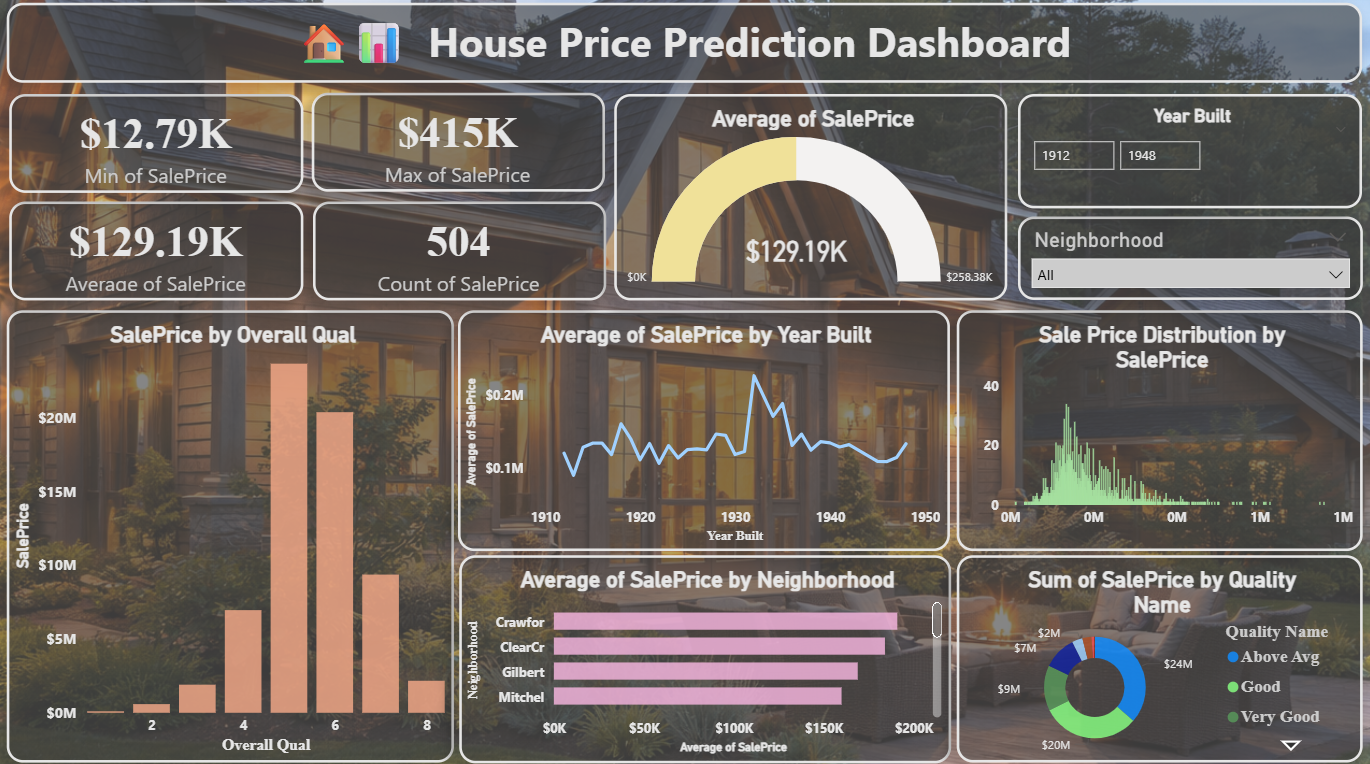

Layout of this report page (visuals, bound fields, positions):
{"tool":"powerbi","page":{"name":"Page 1","canvas":[1280,720],"ordinal":0},"visuals":[{"type":"clusteredColumnChart","fields":{"Category":["AmesHousing (2).SalePrice"],"Y":["CountNonNull(AmesHousing (2).SalePrice)"]},"box":[891.6,294.4,377.6,224.4],"z":0},{"type":"clusteredColumnChart","fields":{"Category":["AmesHousing.Overall Qual"],"Y":["Sum(AmesHousing.SalePrice)"]},"box":[8.4,294.4,416.2,421],"z":1000},{"type":"lineChart","fields":{"Category":["AmesHousing.Year Built"],"Y":["Avg(AmesHousing.SalePrice)"]},"box":[428.3,294.4,457.2,224.4],"z":2000},{"type":"card","fields":{"Values":["CountNonNull(AmesHousing.SalePrice)"]},"box":[293.2,193,272.7,91.7],"z":3000},{"type":"card","fields":{"Values":["Avg(AmesHousing.SalePrice)"]},"box":[10.9,193,273.9,91.7],"z":4000},{"type":"card","fields":{"Values":["Max(AmesHousing.SalePrice)"]},"box":[292,91.7,272.7,91.7],"z":5000},{"type":"card","fields":{"Values":["Min(AmesHousing.SalePrice)"]},"box":[10.9,92.9,273.9,91.7],"z":6000},{"type":"textbox","box":[8.4,8.4,1260.7,74.8],"z":7000},{"type":"slicer","fields":{"Values":["AmesHousing.Neighborhood"]},"box":[948.3,207.5,320.9,77.2],"z":8000},{"type":"clusteredBarChart","fields":{"Category":["AmesHousing.Neighborhood"],"Y":["Avg(AmesHousing.SalePrice)"]},"box":[429.2,522.1,457.3,193.2],"z":9000},{"type":"gauge","fields":{"Y":["Avg(AmesHousing.SalePrice)"]},"box":[573.1,92.9,365.6,191.8],"z":10000},{"type":"donutChart","fields":{"Y":["Sum(AmesHousing.SalePrice)"],"Category":["AmesHousing.Quality Name"]},"box":[891.6,522.4,377.6,193],"z":11000},{"type":"slicer","title":"Year Built","fields":{"Values":["AmesHousing.Year Built"]},"box":[948.8,92.5,320,106.2],"z":12000}]}

Visuals, with their boxes in screenshot pixels (x1, y1, x2, y2), scaled from the page's 1280x720 canvas onto the 1370x764 screenshot:
clusteredColumnChart - AmesHousing (2).SalePrice x CountNonNull(AmesHousing (2).SalePrice): 954,312,1358,551
clusteredColumnChart - AmesHousing.Overall Qual x Sum(AmesHousing.SalePrice): 9,312,454,759
lineChart - AmesHousing.Year Built x Avg(AmesHousing.SalePrice): 458,312,948,551
card - CountNonNull(AmesHousing.SalePrice): 314,205,606,302
card - Avg(AmesHousing.SalePrice): 12,205,305,302
card - Max(AmesHousing.SalePrice): 313,97,604,195
card - Min(AmesHousing.SalePrice): 12,99,305,196
textbox: 9,9,1358,88
slicer - AmesHousing.Neighborhood: 1015,220,1358,302
clusteredBarChart - AmesHousing.Neighborhood x Avg(AmesHousing.SalePrice): 459,554,949,759
gauge - Avg(AmesHousing.SalePrice): 613,99,1005,302
donutChart - Sum(AmesHousing.SalePrice) x AmesHousing.Quality Name: 954,554,1358,759
"Year Built" slicer: 1016,98,1358,211
